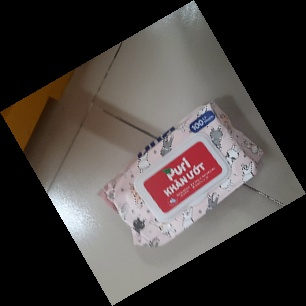Puri hong: (93, 98, 266, 250)
